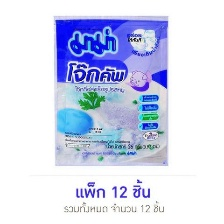snack: (46, 7, 176, 172)
